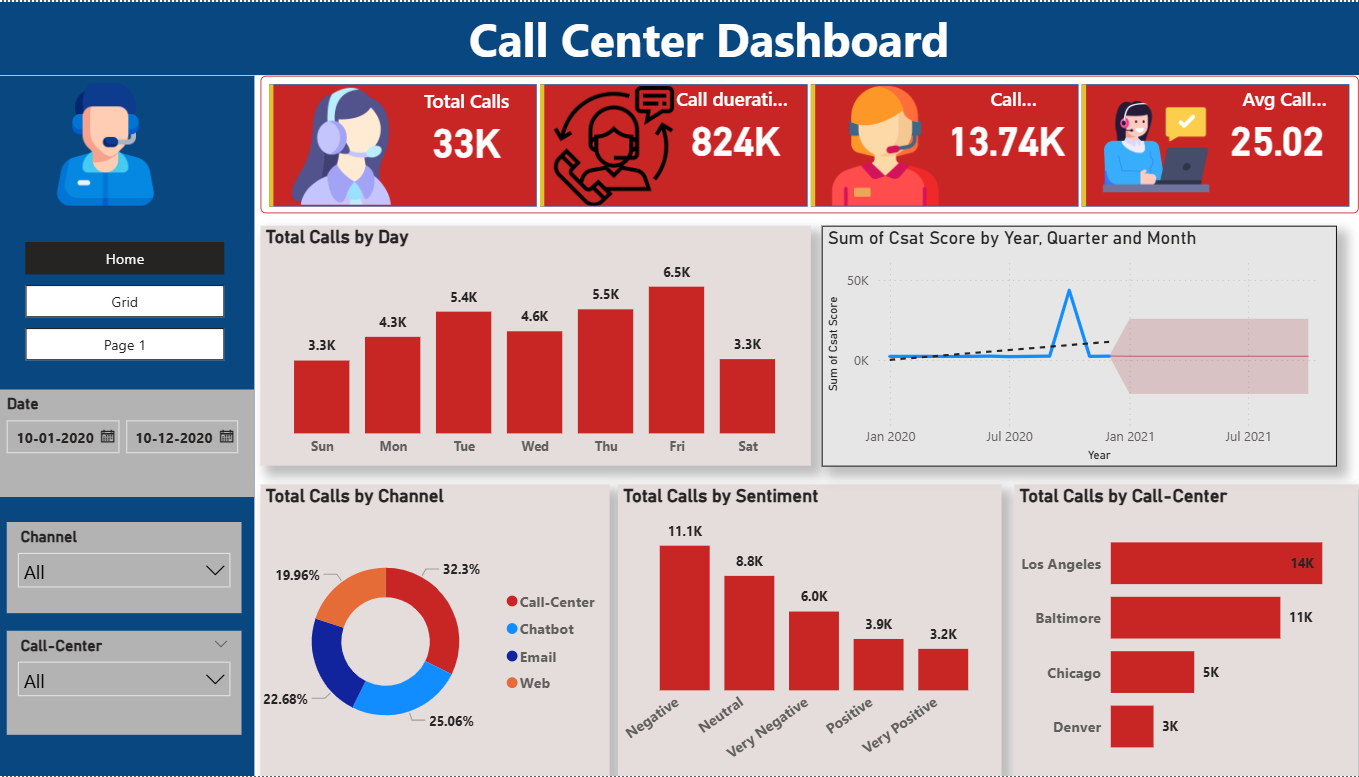

Layout of this report page (visuals, bound fields, positions):
{"tool":"powerbi","page":{"name":"Home","canvas":[1280,720],"ordinal":0},"visuals":[{"type":"shape","box":[0,0,1280,68.3],"z":0},{"type":"shape","box":[0,68.3,243.2,651.7],"z":1000},{"type":"cardVisual","fields":{"Data":["Call Center_Call Center.Total Calls","Call Center_Call Center.Call dueration (Min)","Call Center_Call Center.Total Call duration(Hrs)","Call Center_Call Center.Avg Call Duration (Min)"]},"box":[248.3,68.3,1021.7,128.3],"z":2000},{"type":"textbox","box":[301.7,0,730,85],"z":3000},{"type":"columnChart","fields":{"Y":["Call Center_Call Center.Total Calls"],"Category":["Date Table.Day"]},"box":[248.3,208.3,511.7,223.3],"z":4000},{"type":"donutChart","fields":{"Category":["Call Center_Call Center.Channel"],"Y":["Call Center_Call Center.Total Calls"]},"box":[248.3,448.3,325,271.7],"z":5000},{"type":"columnChart","fields":{"Category":["Call Center_Call Center.Sentiment"],"Y":["Call Center_Call Center.Total Calls"]},"box":[581.7,448.3,356.7,271.7],"z":6000},{"type":"barChart","fields":{"Category":["Call Center_Call Center.Call-Center"],"Y":["Call Center_Call Center.Total Calls"]},"box":[950,448.3,320,271.7],"z":7000},{"type":"image","box":[43.3,68.3,123.3,128.3],"z":8000},{"type":"pageNavigator","box":[30,223.3,185,111.7],"z":9000},{"type":"slicer","fields":{"Values":["Date Table.Date"]},"box":[0,360,243.3,100],"z":10000},{"type":"slicer","fields":{"Values":["Call Center_Call Center.Channel"]},"box":[13.3,483.3,218.3,85],"z":11000},{"type":"slicer","fields":{"Values":["Call Center_Call Center.Call-Center"]},"box":[13.3,585,218.3,96.7],"z":12000},{"type":"lineChart","fields":{"Category":["Date Table.Date.Variation.Date Hierarchy.Year","Date Table.Date.Variation.Date Hierarchy.Quarter","Date Table.Date.Variation.Date Hierarchy.Month"],"Y":["Sum(Call Center_Call Center.Csat Score)"]},"box":[770.4,207.8,479,223.6],"z":13000}]}

Visuals, with their boxes in screenshot pixels (x1, y1, x2, y2), scaled from the page's 1280x720 canvas onto the 1359x777 screenshot:
shape: <box>0,0,1358,74</box>
shape: <box>0,74,258,776</box>
cardVisual - Call Center_Call Center.Total Calls x Call Center_Call Center.Call dueration (Min): <box>264,74,1348,212</box>
textbox: <box>320,0,1095,92</box>
columnChart - Call Center_Call Center.Total Calls x Date Table.Day: <box>264,225,807,466</box>
donutChart - Call Center_Call Center.Channel x Call Center_Call Center.Total Calls: <box>264,484,609,776</box>
columnChart - Call Center_Call Center.Sentiment x Call Center_Call Center.Total Calls: <box>618,484,996,776</box>
barChart - Call Center_Call Center.Call-Center x Call Center_Call Center.Total Calls: <box>1009,484,1348,776</box>
image: <box>46,74,177,212</box>
pageNavigator: <box>32,241,228,362</box>
slicer - Date Table.Date: <box>0,388,258,496</box>
slicer - Call Center_Call Center.Channel: <box>14,522,246,613</box>
slicer - Call Center_Call Center.Call-Center: <box>14,631,246,736</box>
lineChart - Date Table.Date.Variation.Date Hierarchy.Year x Date Table.Date.Variation.Date Hierarchy.Quarter: <box>818,224,1327,466</box>
